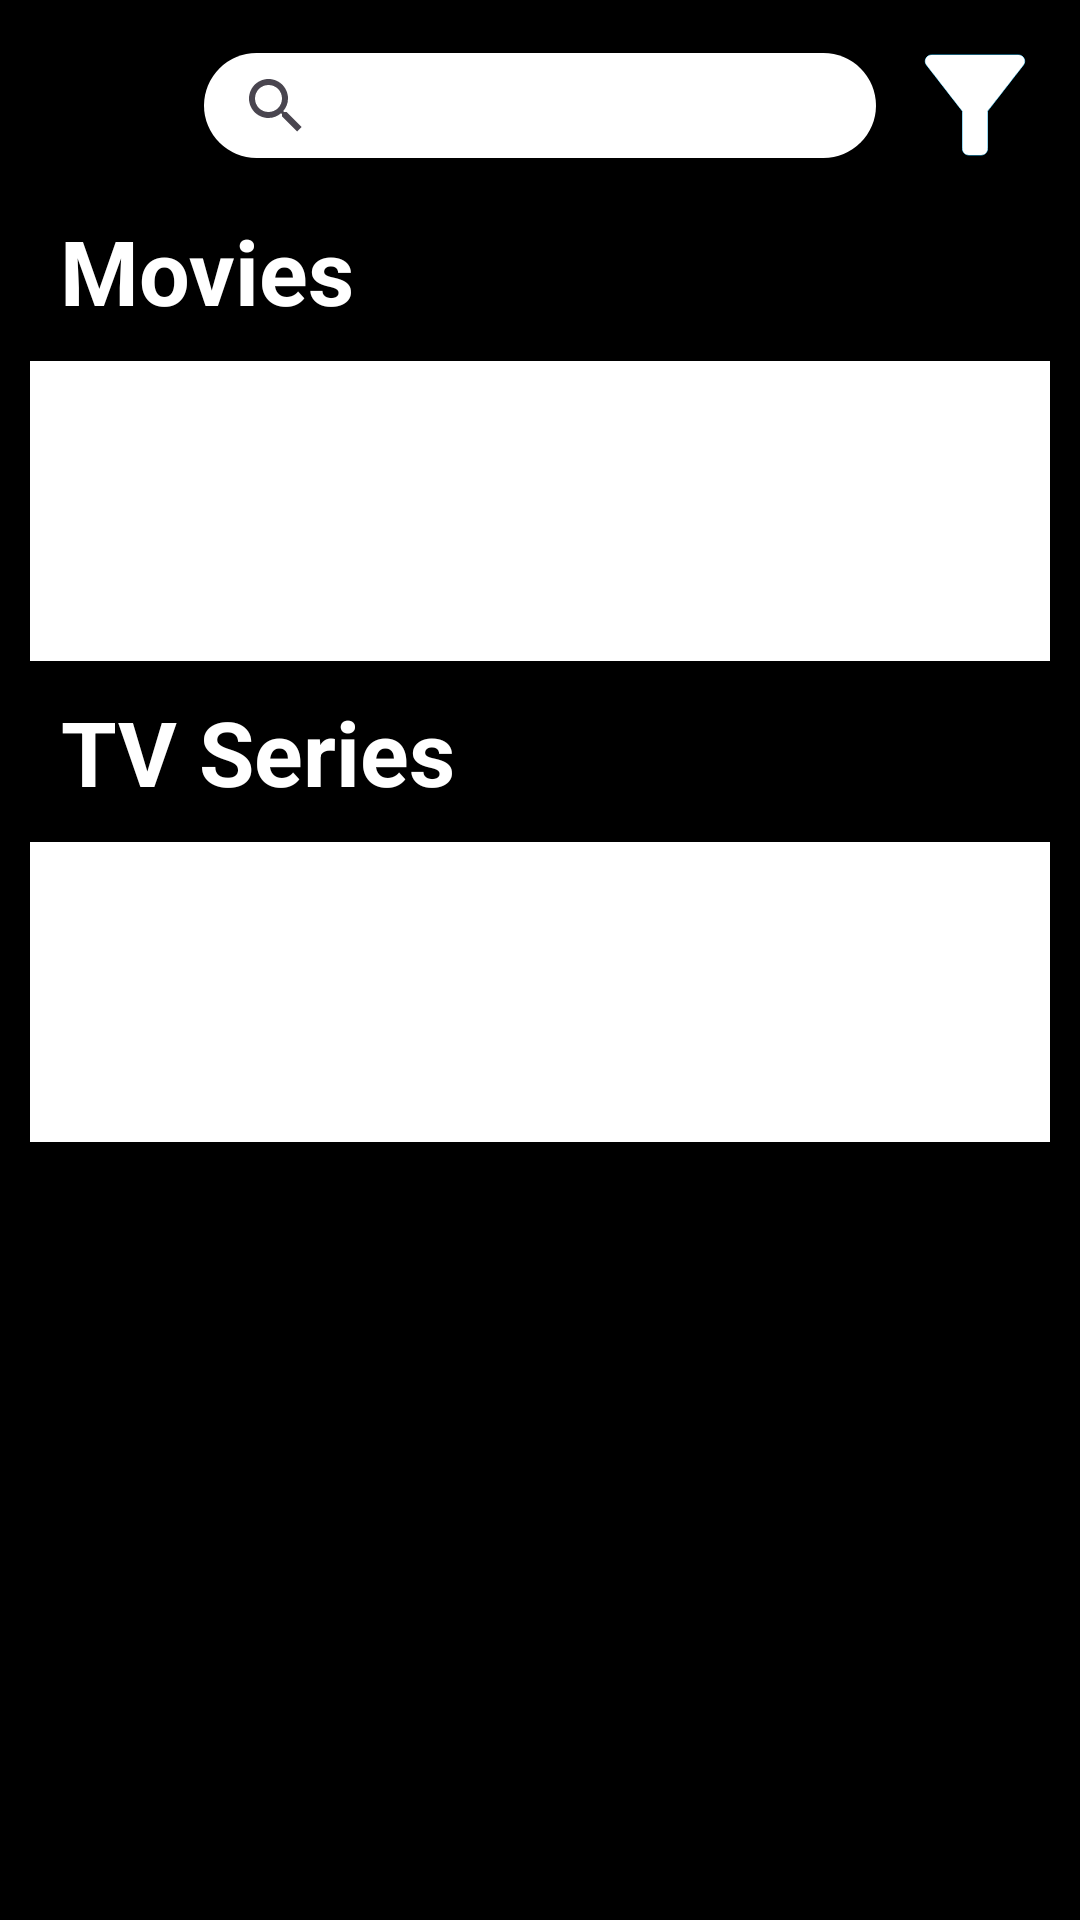

Icons on this 1080×1920 Android screen, each with its box as (x1, y1, x2, y2):
filter: (924, 54, 1026, 156)
